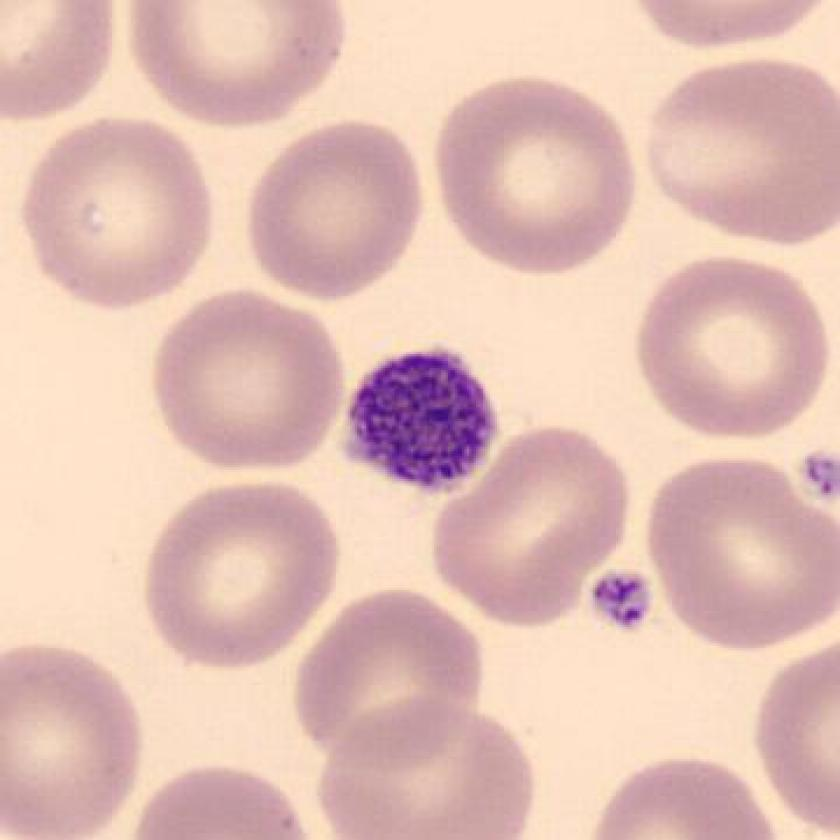platelets: (339, 346, 505, 501), (587, 563, 661, 635), (794, 445, 840, 510)
